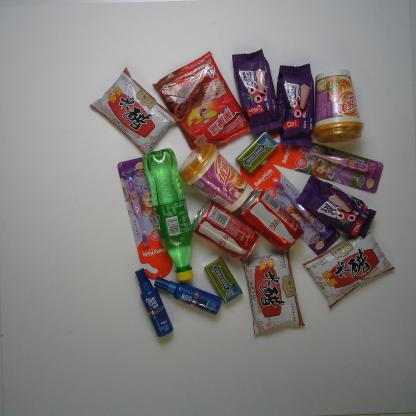Dessert: (151, 49, 253, 152), (293, 173, 379, 240), (230, 48, 284, 136), (274, 59, 316, 149)
Drink: (140, 146, 198, 282), (237, 186, 307, 254), (187, 199, 262, 261)
Gum: (233, 128, 280, 176), (202, 254, 244, 306)
Instant Drink: (176, 138, 253, 215), (310, 66, 366, 146)
Personal Hygiene: (239, 156, 341, 258), (257, 130, 385, 196), (116, 155, 174, 281), (130, 266, 175, 338), (151, 275, 224, 316)
Seasoner: (86, 65, 184, 157), (300, 226, 398, 309), (237, 250, 308, 338)
